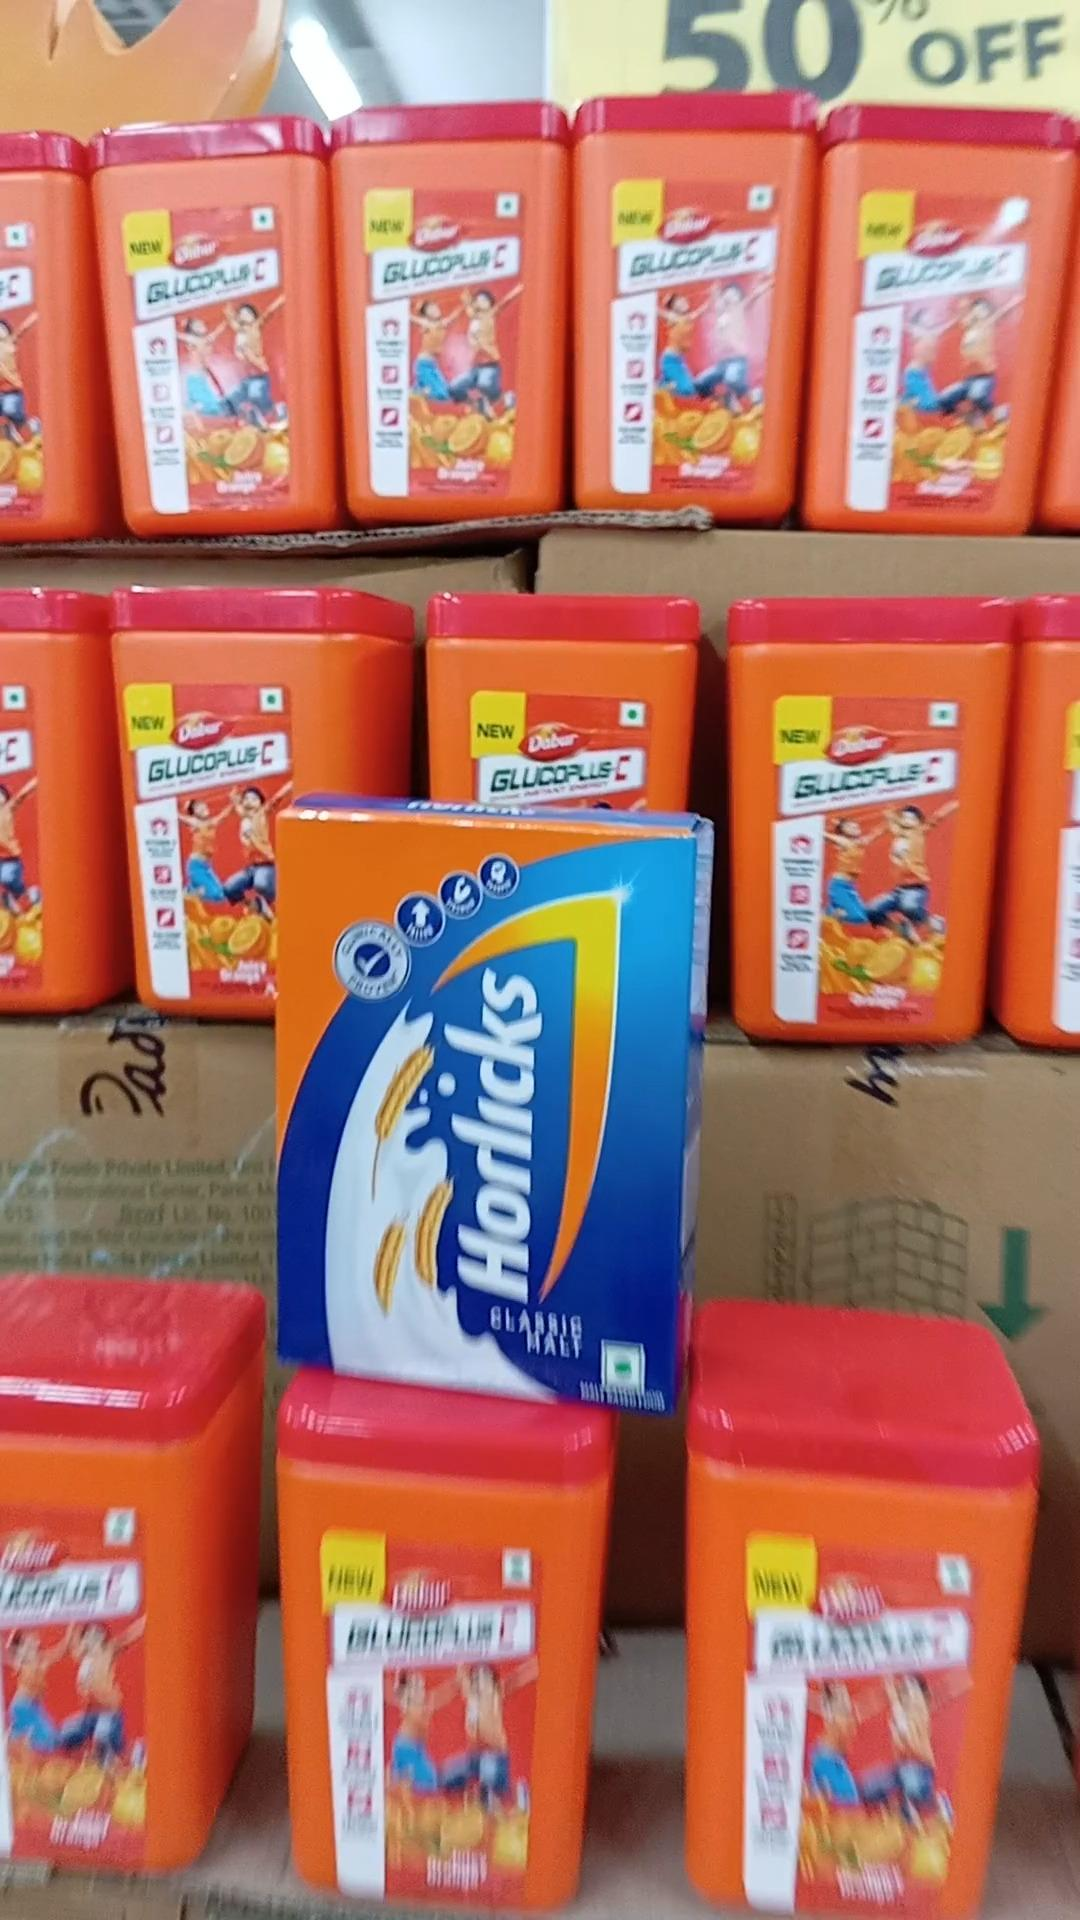HORLICK_CLASSIC_MALT_500_G_PACK: (276, 812, 676, 1402)
